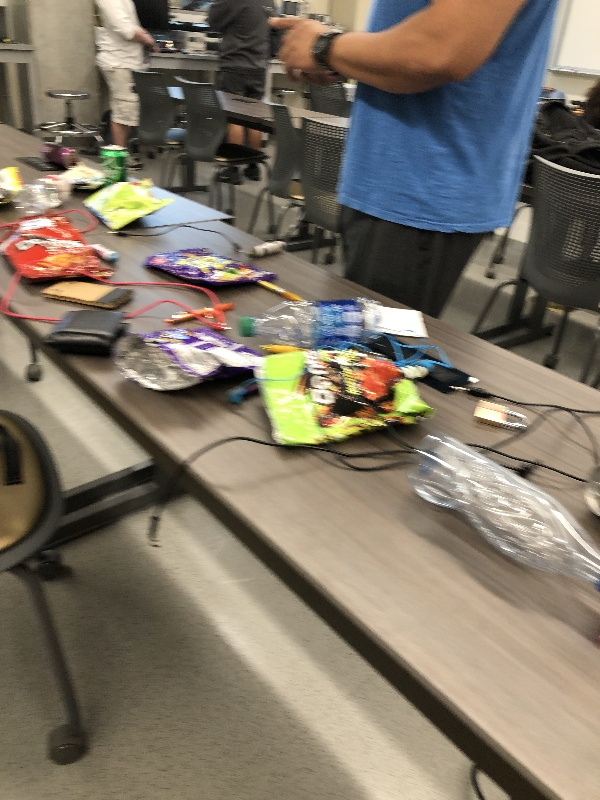bag: (248, 349, 437, 451), (108, 319, 270, 397), (1, 207, 126, 282), (141, 244, 280, 298), (80, 177, 178, 230), (54, 161, 110, 192), (1, 163, 25, 196)
bottle: (401, 429, 600, 601), (238, 296, 386, 349), (10, 173, 78, 218)
can: (97, 138, 130, 183), (578, 457, 600, 518), (36, 142, 80, 163)
